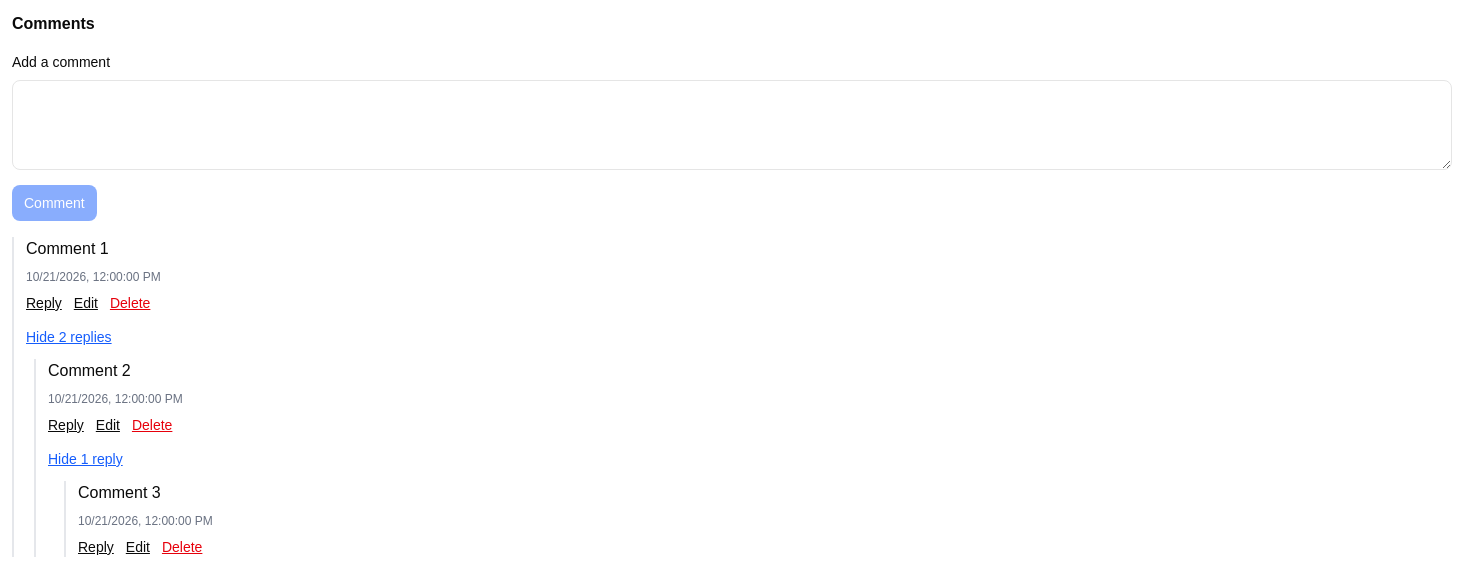
Scenario: Comments display › collapses replies while keeping the parent visible
Expected: the text "Add a comment" is shown, [12, 54, 110, 70]
Note: Collapse the entire branch beneath the root comment.
Click the button "Hide 2 replies". click: click(69, 337)
box: [26, 327, 112, 347]
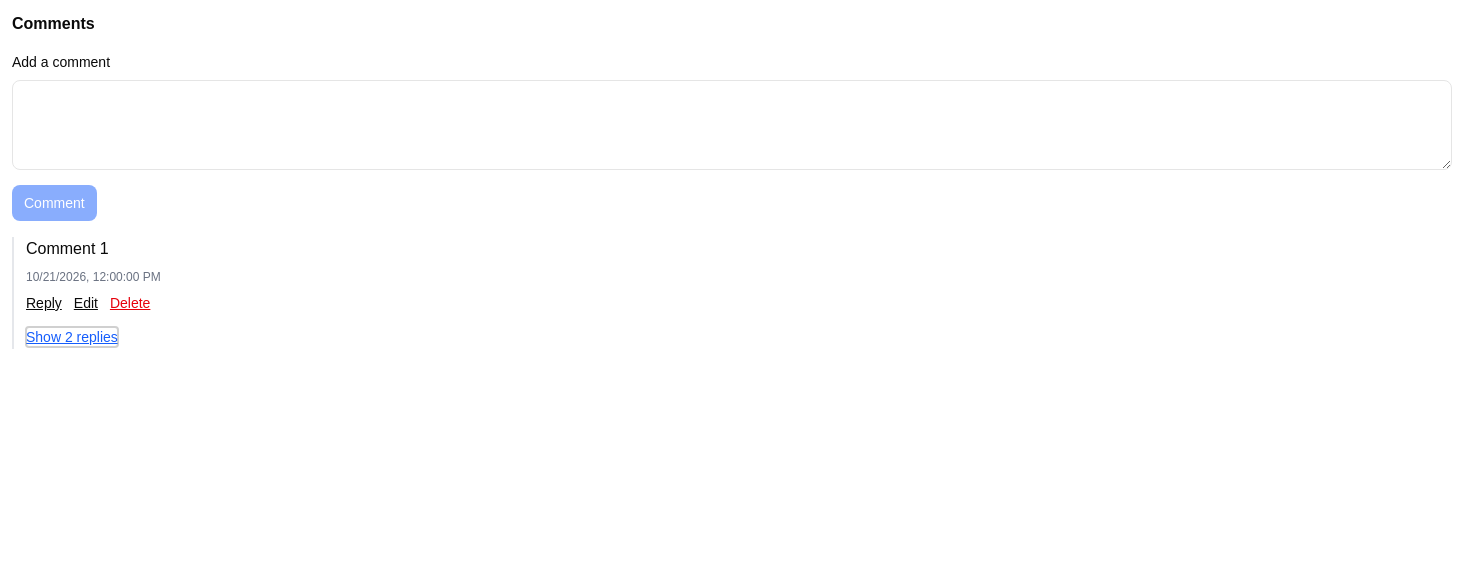
Expected: the text "Comment 1" is shown, [26, 240, 109, 257]
Expected: the text "Comment 2" is gone
Expected: the text "Comment 3" is gone
Note: Expand the branch to restore its descendants.
Click the button "Show 2 replies". click: click(72, 337)
box: [26, 327, 118, 347]
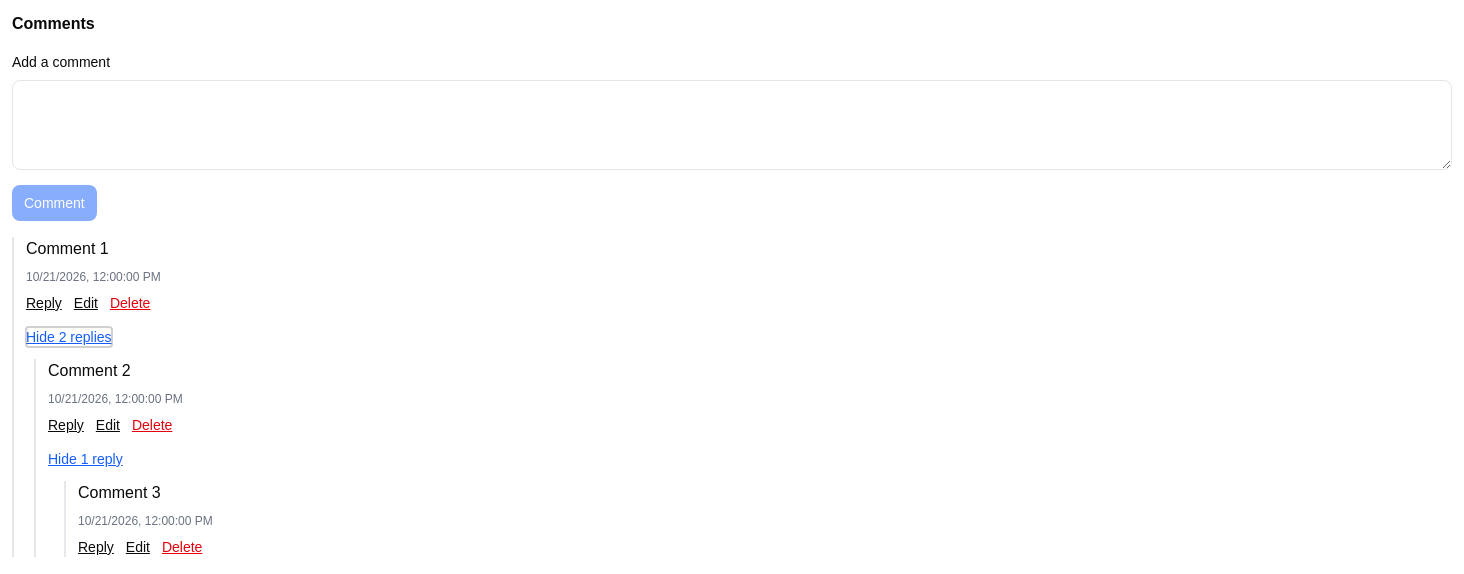
Expected: the text "Comment 2" is shown, [48, 362, 131, 379]
Expected: the text "Comment 3" is shown, [78, 484, 161, 501]
